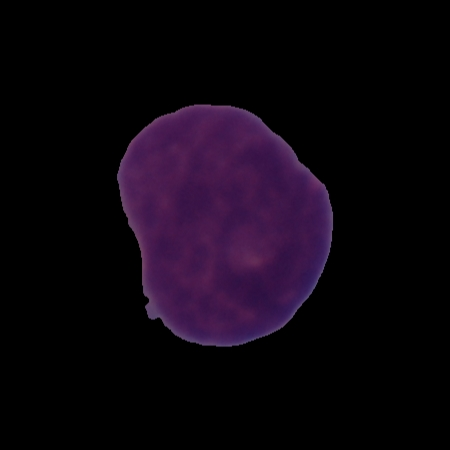ALL: (114, 101, 337, 351)
